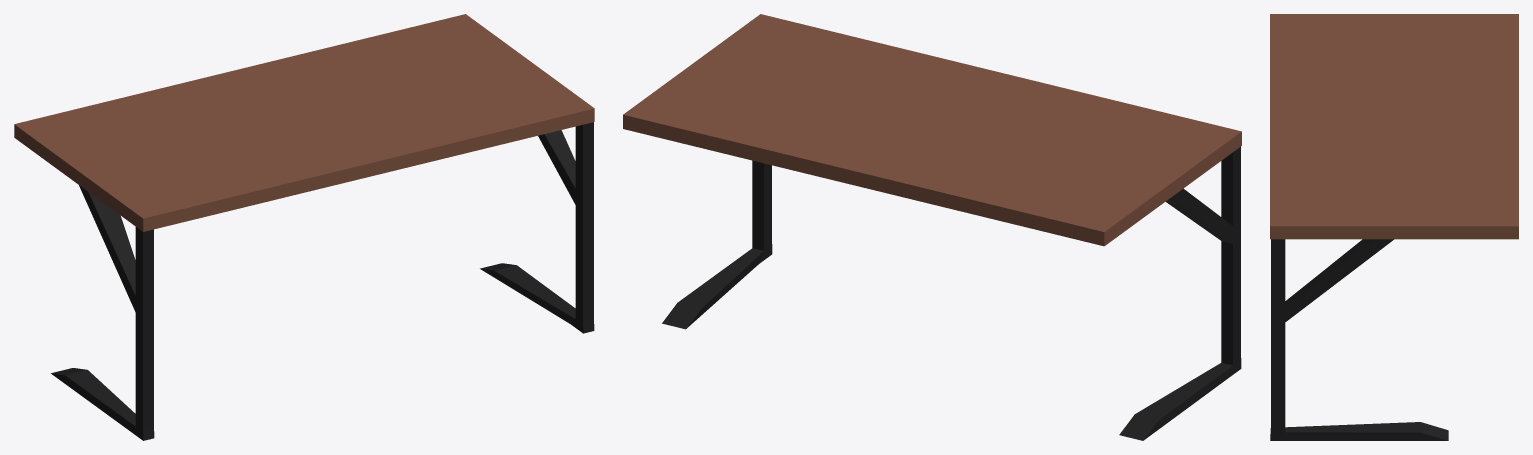
File: Desk.fbx
3 views of the same model, side by side, from view 1: azimuth 30°, elevation 25°; view 2: azimuth 150°, elevation 25°; view 3: azimuth 270°, elevation 25° (orthographic). The views are drawn at different scales.
Parts seen in each view (by area): view 1: Cube; view 2: Cube; view 3: Cube.
Part boxes in pixels (<box>): Cube: <box>14,14,594,440</box>; Cube: <box>623,14,1241,440</box>; Cube: <box>1270,14,1518,440</box>.
Size of the model in its own units: 800 by 377 by 396.
